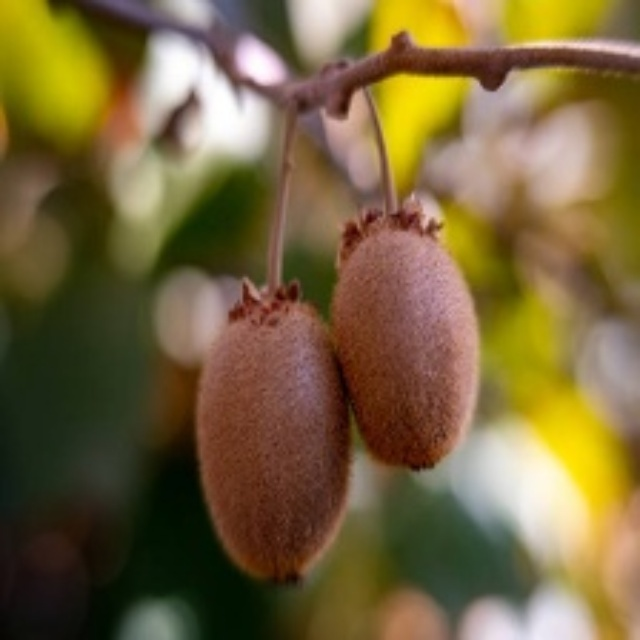kiwi: (193, 289, 370, 596), (334, 198, 492, 475)
